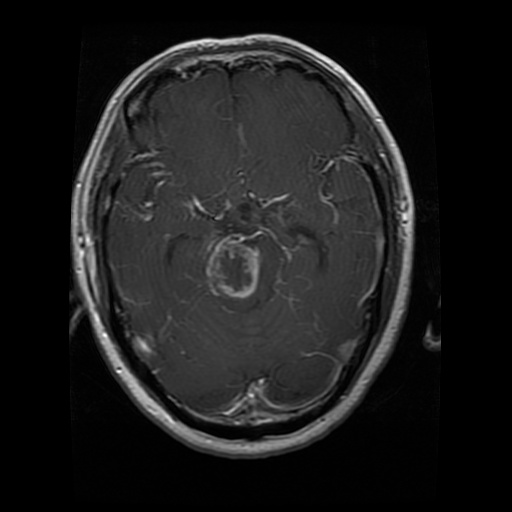glioma: (203, 234, 263, 303)
